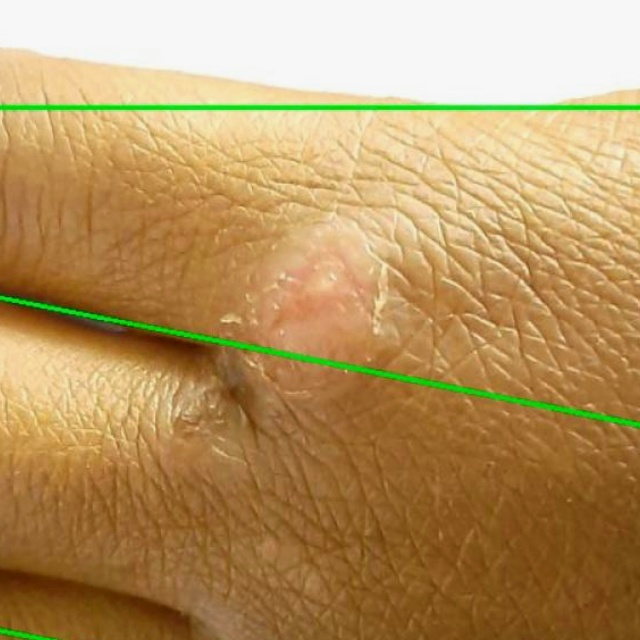Eczema: (0, 293, 639, 639), (0, 0, 639, 107)
